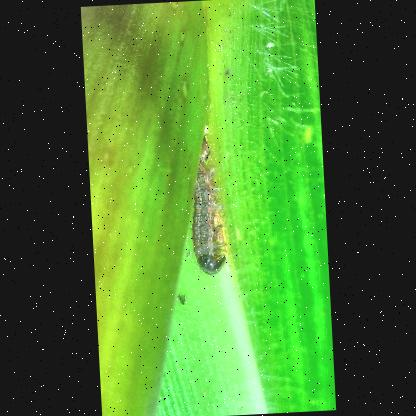Fall Armyworm Larvae: (182, 132, 232, 278)
